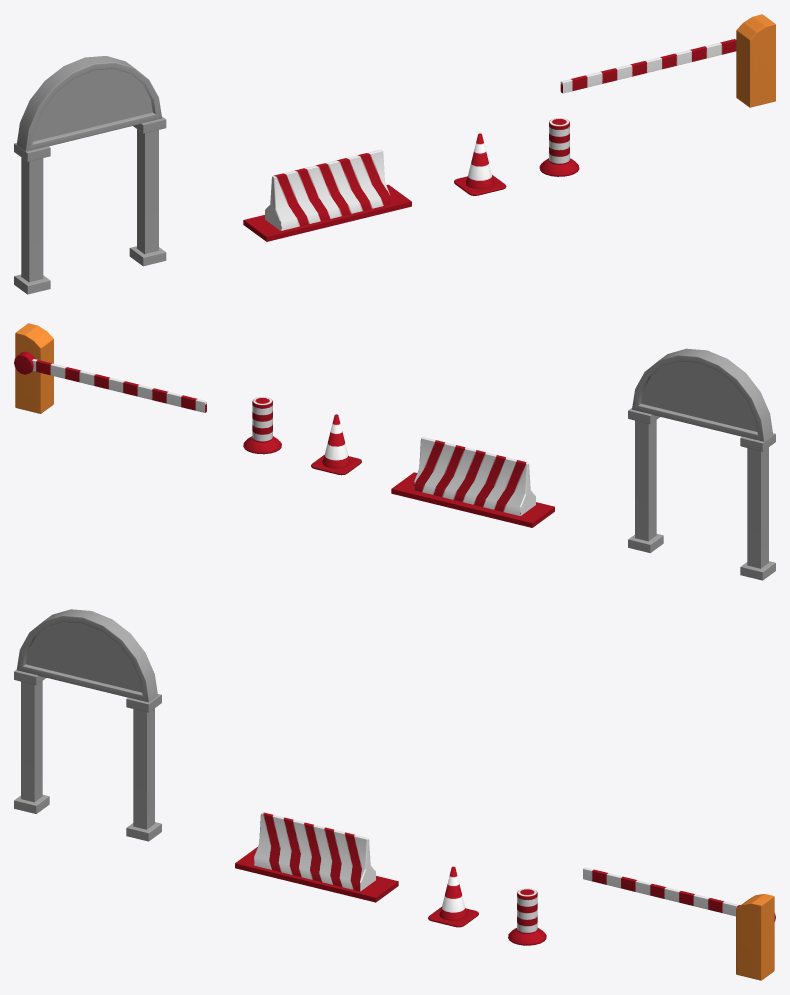
The model's file is Hurdles.fbx.
3 renders of one model, top to bottom at view 1: azimuth 30°, elevation 25°; view 2: azimuth 150°, elevation 25°; view 3: azimuth 330°, elevation 25°, orthographic. The views are drawn at different scales.
Visible parts, largest first — view 1: pCylinder4, concrete_blocker, pCube6, pCube5, pCube1, Bar, concrete_base, Cone, polySurface2, polySurface1; view 2: pCylinder4, concrete_blocker, pCube6, pCube5, pCube1, Bar, concrete_base, Cone, polySurface2, polySurface1; view 3: pCylinder4, concrete_blocker, pCube5, pCube6, pCube1, Bar, concrete_base, Cone, polySurface2.
Part boxes in pixels (<box>): pCylinder4: <box>16,56,161,151</box>; concrete_blocker: <box>265,149,390,230</box>; pCube6: <box>14,143,50,294</box>; pCube5: <box>129,116,166,266</box>; pCube1: <box>736,14,775,107</box>; Bar: <box>560,38,736,93</box>; concrete_base: <box>243,184,411,241</box>; Cone: <box>454,133,506,195</box>; polySurface2: <box>549,118,569,164</box>; polySurface1: <box>539,158,579,176</box>; pCylinder4: <box>632,348,773,441</box>; concrete_blocker: <box>414,437,535,515</box>; pCube6: <box>740,433,775,580</box>; pCube5: <box>628,408,663,553</box>; pCube1: <box>15,323,53,413</box>; Bar: <box>32,359,206,412</box>; concrete_base: <box>391,472,554,527</box>; Cone: <box>311,414,361,475</box>; polySurface2: <box>252,397,272,442</box>; polySurface1: <box>243,436,281,454</box>; pCylinder4: <box>16,609,157,702</box>; concrete_blocker: <box>254,812,375,891</box>; pCube5: <box>126,694,161,841</box>; pCube6: <box>14,670,49,813</box>; pCube1: <box>736,894,774,980</box>; Bar: <box>583,867,740,916</box>; concrete_base: <box>235,847,398,902</box>; Cone: <box>428,866,478,927</box>; polySurface2: <box>517,888,537,933</box>.
Size of the model in its own units: 2003 by 540 by 186.
5 materials, 4 textured.
